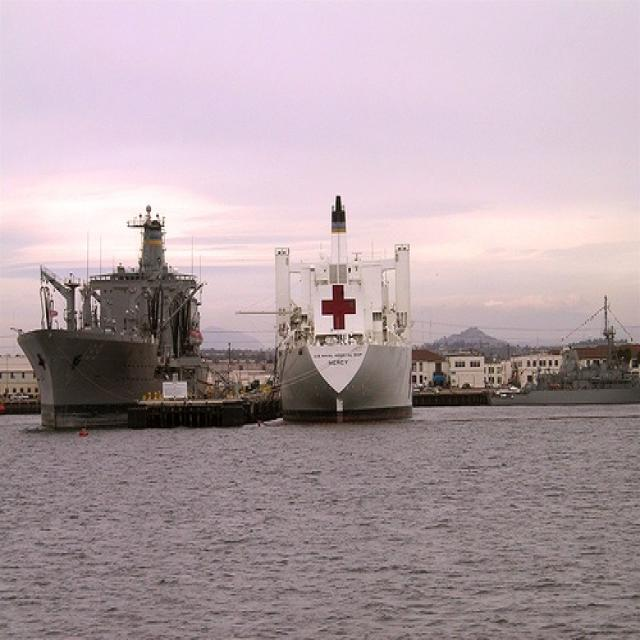boat: (15, 210, 200, 423), (274, 193, 416, 421), (485, 326, 639, 404)
